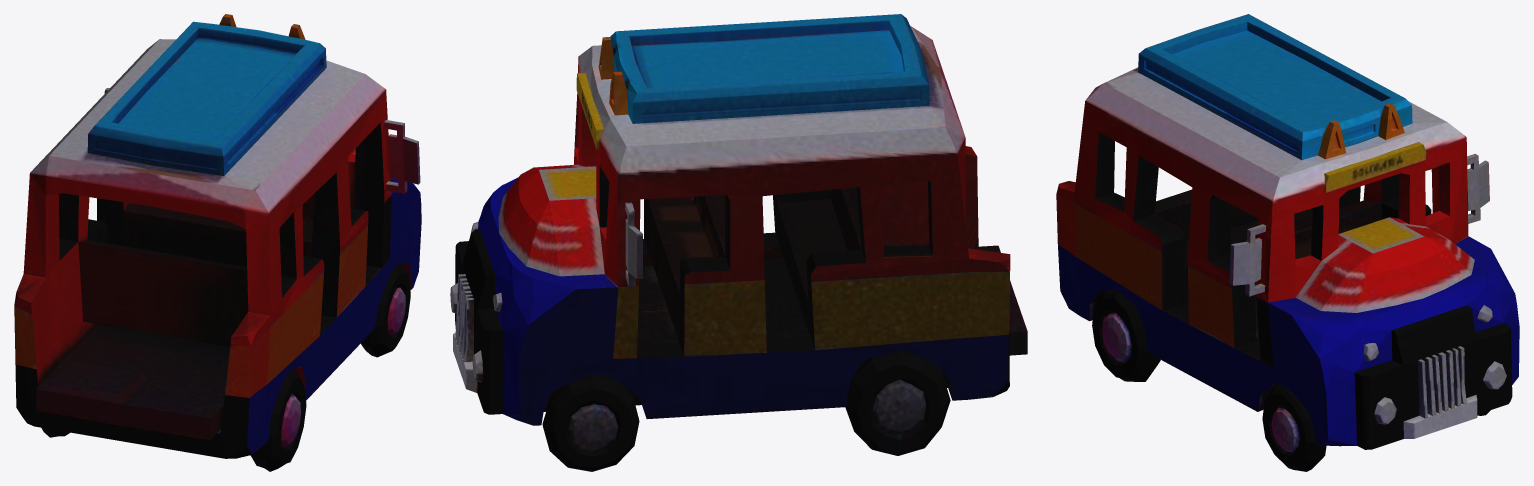
File: chiva.glb
3 views of the same model, side by side, from view 1: azimuth 30°, elevation 25°; view 2: azimuth 150°, elevation 25°; view 3: azimuth 270°, elevation 25° (orthographic). The views are drawn at different scales.
Visible parts, largest first — view 1: chiva; view 2: chiva; view 3: chiva.
Part boxes in pixels (left/top/right/bottom): chiva: left=14, top=14, right=421, bottom=471; chiva: left=450, top=14, right=1027, bottom=471; chiva: left=1056, top=14, right=1519, bottom=471.
Size of the model in its own units: 1.93 by 1.38 by 1.8.
Materials: 1 (1 with a texture image).
